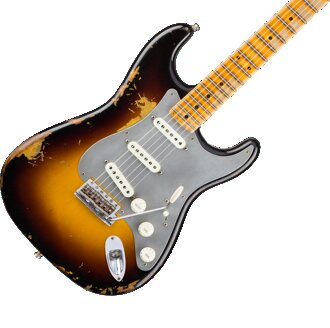ElectricGuitar: (1, 1, 329, 297)
